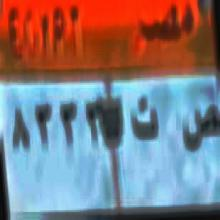3: (59, 94, 79, 158), (33, 96, 53, 160), (81, 97, 103, 154)
8: (10, 108, 30, 162)
saad: (182, 94, 218, 161)
taa: (128, 95, 160, 150)
